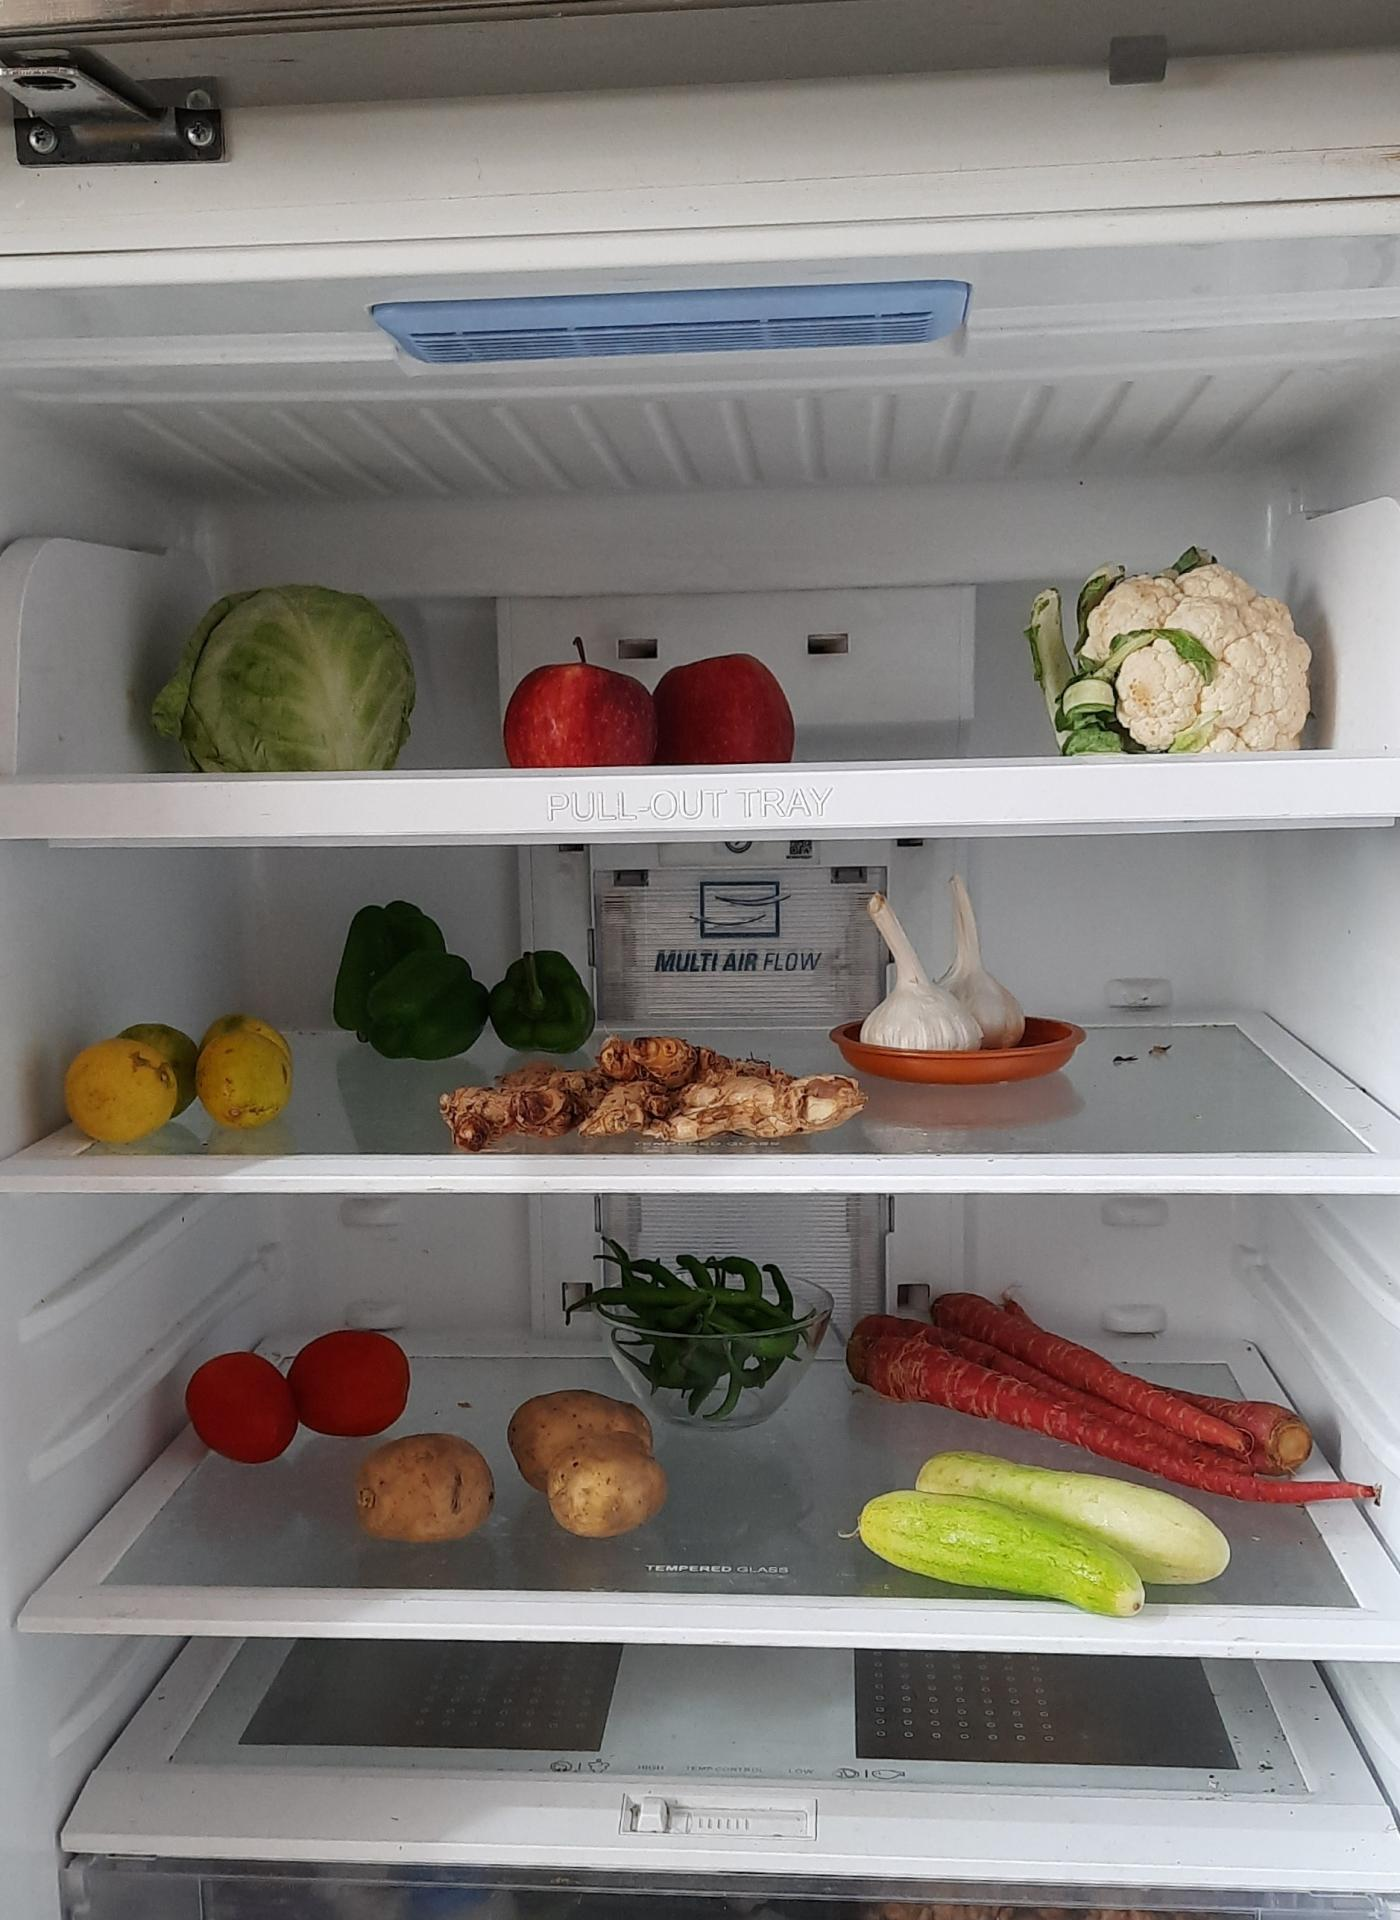apple: (504, 642, 801, 763)
cabbage: (155, 583, 422, 774)
capsicum: (332, 909, 593, 1069)
carrots: (844, 1294, 1345, 1518)
cauliflower: (1038, 549, 1319, 753)
chillies: (590, 1234, 811, 1419)
cucumber: (850, 1449, 1236, 1620)
garlic: (860, 878, 1024, 1058)
ginger: (444, 1032, 819, 1143)
lemon: (60, 1017, 294, 1146)
potato: (507, 1376, 675, 1555), (346, 1424, 502, 1559)
tomato: (182, 1322, 410, 1455)
